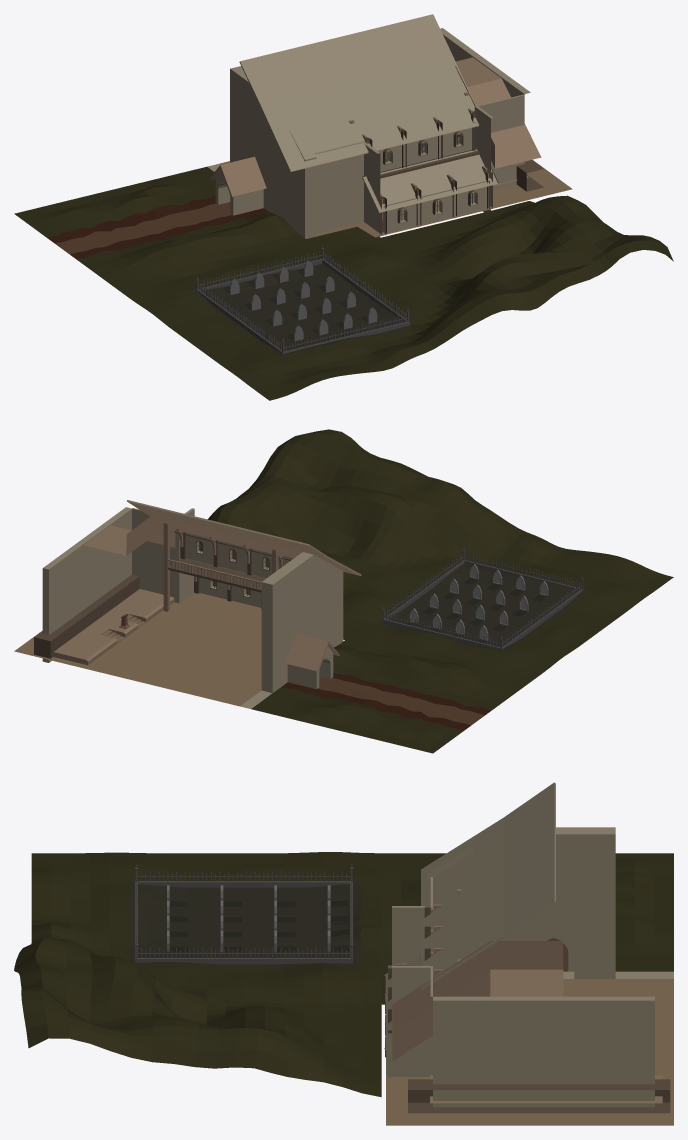
Rendered from church.fbx.
3 renders of one model, top to bottom at view 1: azimuth 30°, elevation 25°; view 2: azimuth 150°, elevation 25°; view 3: azimuth 270°, elevation 25°, orthographic. The views are drawn at different scales.
Visible parts, largest first — view 1: church; view 2: church; view 3: church.
Boxes of the visible parts, <box> form: church: <box>14,14,673,400</box>; church: <box>14,429,673,753</box>; church: <box>14,782,673,1125</box>.
Bounding box in the file's own units: 5027 × 1669 × 5146.
